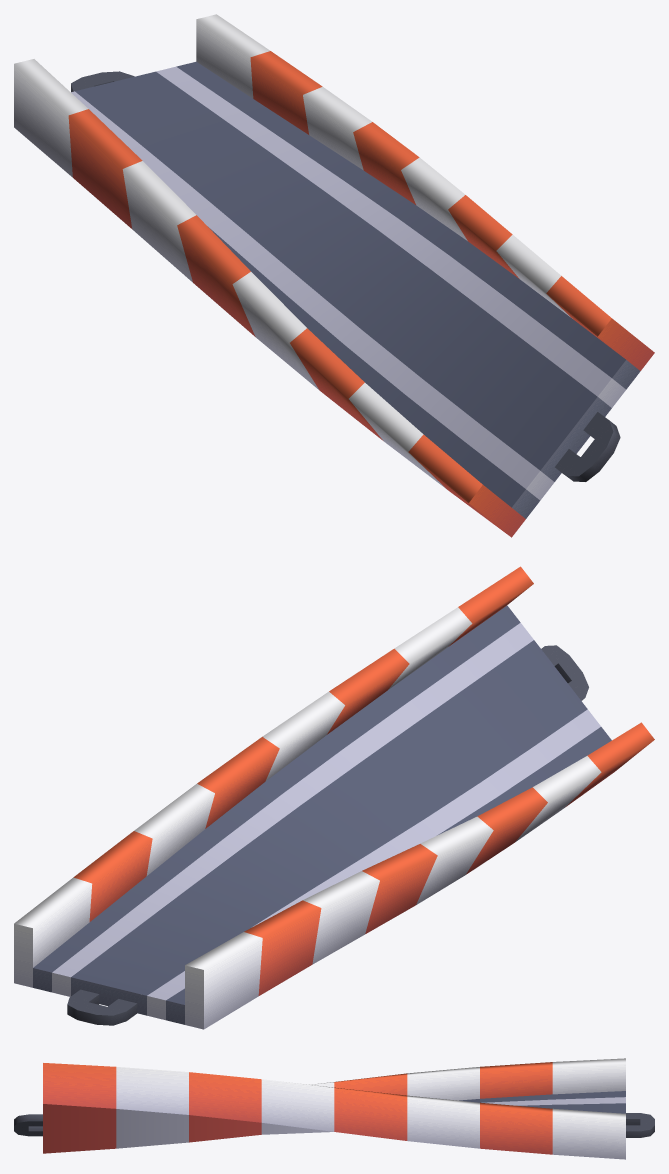
File: track-road-narrow-straight-skew-right.glb
3 renders of one model, top to bottom at view 1: azimuth 30°, elevation 25°; view 2: azimuth 150°, elevation 25°; view 3: azimuth 270°, elevation 25°, orthographic. The views are drawn at different scales.
Parts seen in each view (by area): view 1: track-road-narrow-straight-skew-right; view 2: track-road-narrow-straight-skew-right; view 3: track-road-narrow-straight-skew-right.
Part boxes in pixels (<box>): track-road-narrow-straight-skew-right: <box>14,14,654,537</box>; track-road-narrow-straight-skew-right: <box>14,566,654,1029</box>; track-road-narrow-straight-skew-right: <box>14,1058,654,1159</box>.
Bounding box in the file's own units: 3.25 × 2.76 × 13.2.
Materials: 1 (1 with a texture image).
